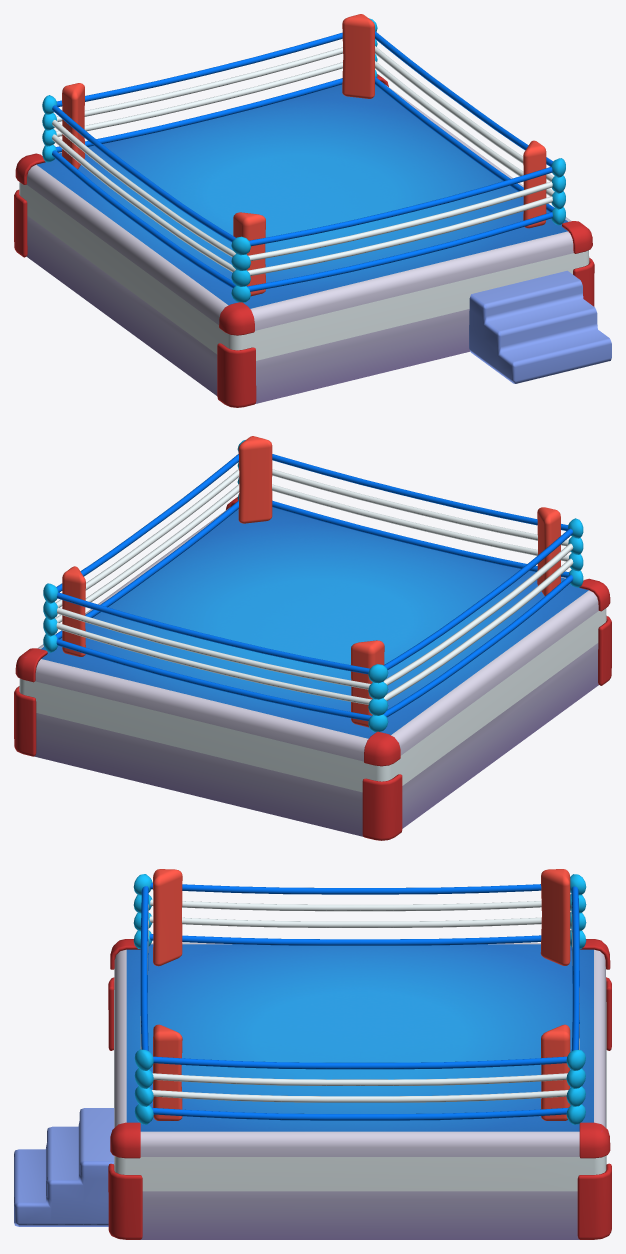
The model's file is ring_fix.fbx.
3 renders of one model, top to bottom at view 1: azimuth 30°, elevation 25°; view 2: azimuth 150°, elevation 25°; view 3: azimuth 270°, elevation 25°, orthographic. The views are drawn at different scales.
Visible parts, largest first — view 1: ring1; view 2: ring1; view 3: ring1.
Part boxes in pixels (bbox=[...]): ring1: bbox=[14, 14, 611, 407]; ring1: bbox=[14, 436, 611, 840]; ring1: bbox=[14, 869, 611, 1239].
Bounding box in the file's own units: 728 × 323 × 908.
